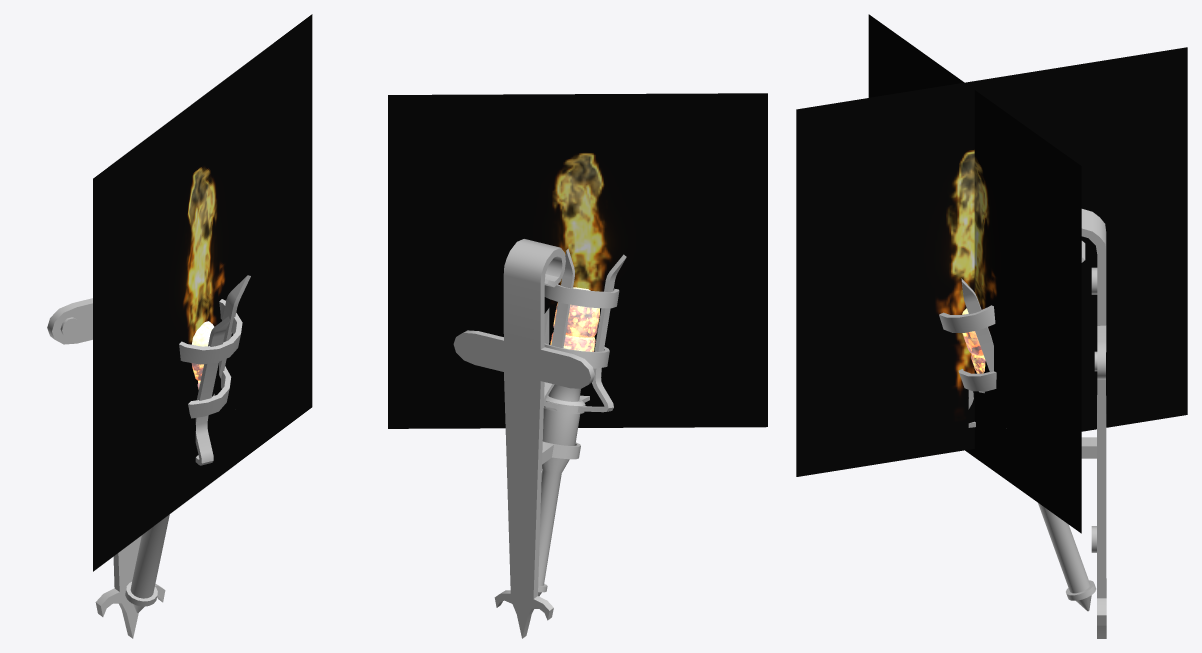
The model's file is torch.fbx.
3 views of the same model, side by side, from view 1: azimuth 30°, elevation 25°; view 2: azimuth 150°, elevation 25°; view 3: azimuth 270°, elevation 25° (orthographic). The views are drawn at different scales.
Visible parts, largest first — view 1: flames, torch; view 2: flames, torch; view 3: flames, torch.
Part boxes in pixels (left/top/right/bottom): flames: left=93, top=14, right=312, bottom=571; torch: left=47, top=275, right=250, bottom=638; flames: left=388, top=93, right=767, bottom=428; torch: left=453, top=239, right=626, bottom=638; flames: left=796, top=14, right=1187, bottom=533; torch: left=939, top=209, right=1106, bottom=638.
Size of the model in its own units: 83.17 by 143 by 90.46.
